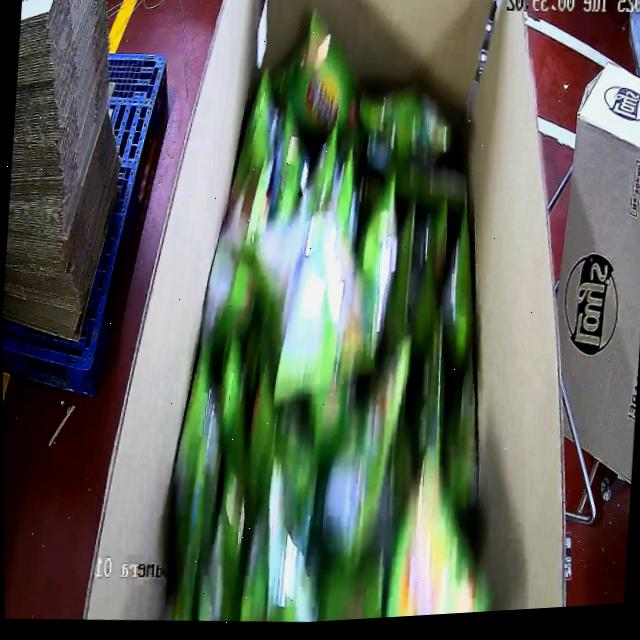YOGURT_HERB: (156, 0, 526, 631)
